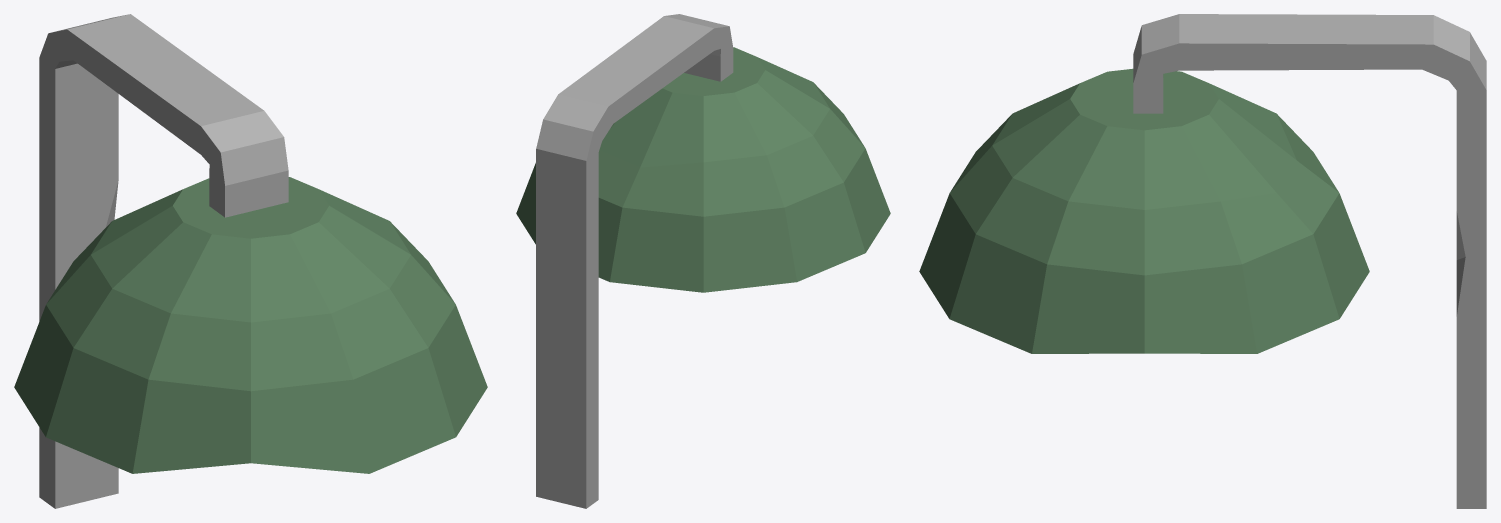
The model's file is Wh_Wall_Lamp_02.fbx.
The picture shows the model from 3 angles, left to right: view 1: azimuth 30°, elevation 25°; view 2: azimuth 150°, elevation 25°; view 3: azimuth 270°, elevation 25°; orthographic projection. The views are drawn at different scales.
Visible parts, largest first — view 1: Cylinder.043; view 2: Cylinder.043; view 3: Cylinder.043.
Boxes of the visible parts, x1,y1,x2,y2 form: Cylinder.043: (14,14,487,508); Cylinder.043: (516,14,890,508); Cylinder.043: (919,14,1486,508).
Bounding box in the file's own units: 49.4 × 56.32 × 62.22.
